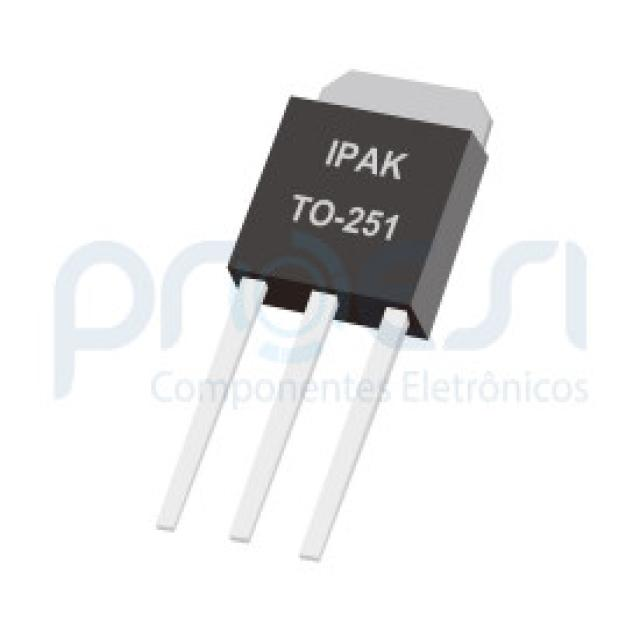Transistor: (193, 62, 494, 553)
